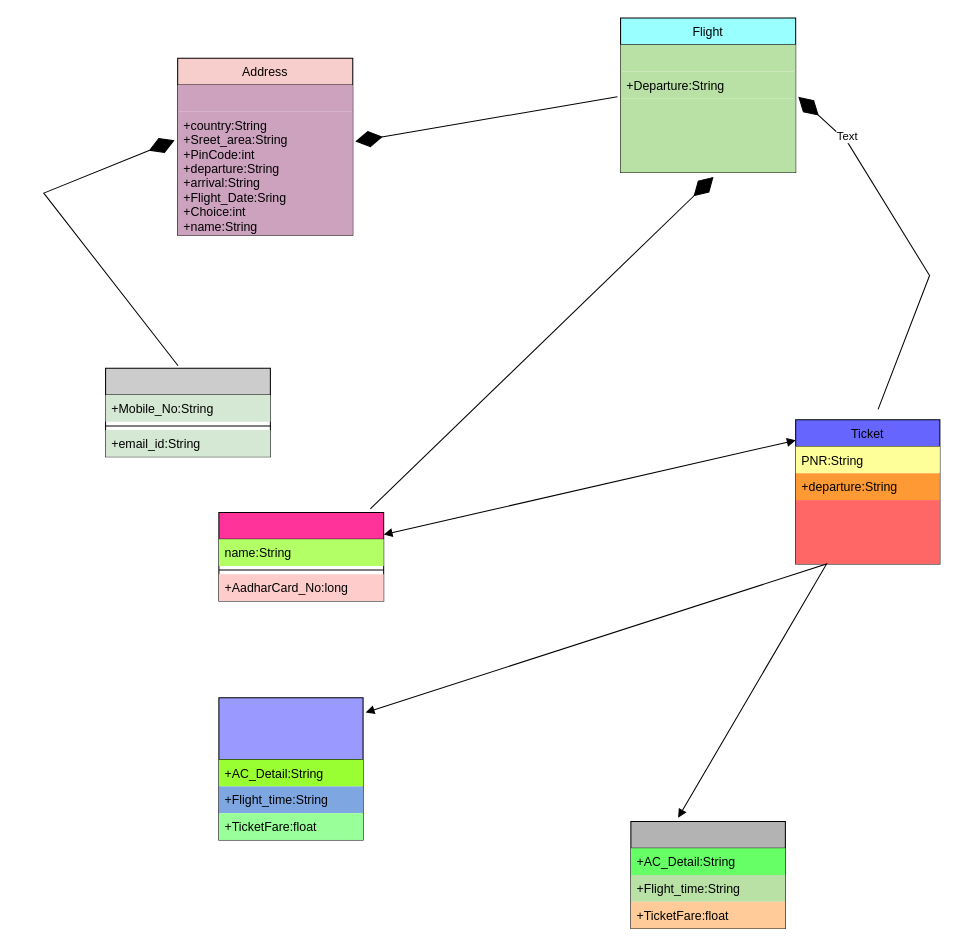
This 974x950 diagram has some shape labels left out. The shapes that lost their labels are listed below. From the top down, each one's box as (x1, y1, x2, y2) in pixels, then its label:
(620, 44, 795, 71): +Flight_Name
(177, 84, 352, 111): +city:String
(620, 98, 795, 172): +Arrival:String +Flight_no:String
(105, 367, 270, 457): Contact
(795, 500, 939, 563): +arrival:String +Seat_no:String
(218, 511, 384, 601): Passenger
(218, 697, 363, 840): TouristTicket
(630, 820, 785, 929): RgularTicket
